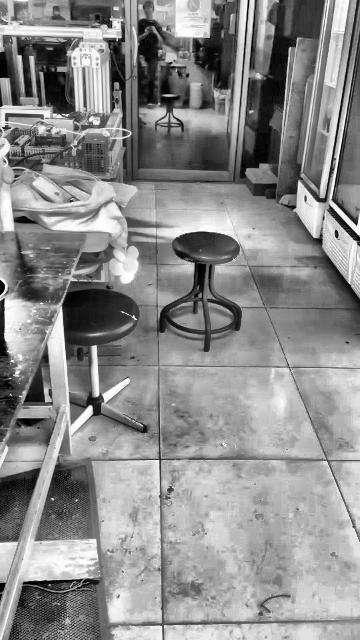pot: (0, 278, 7, 344)
